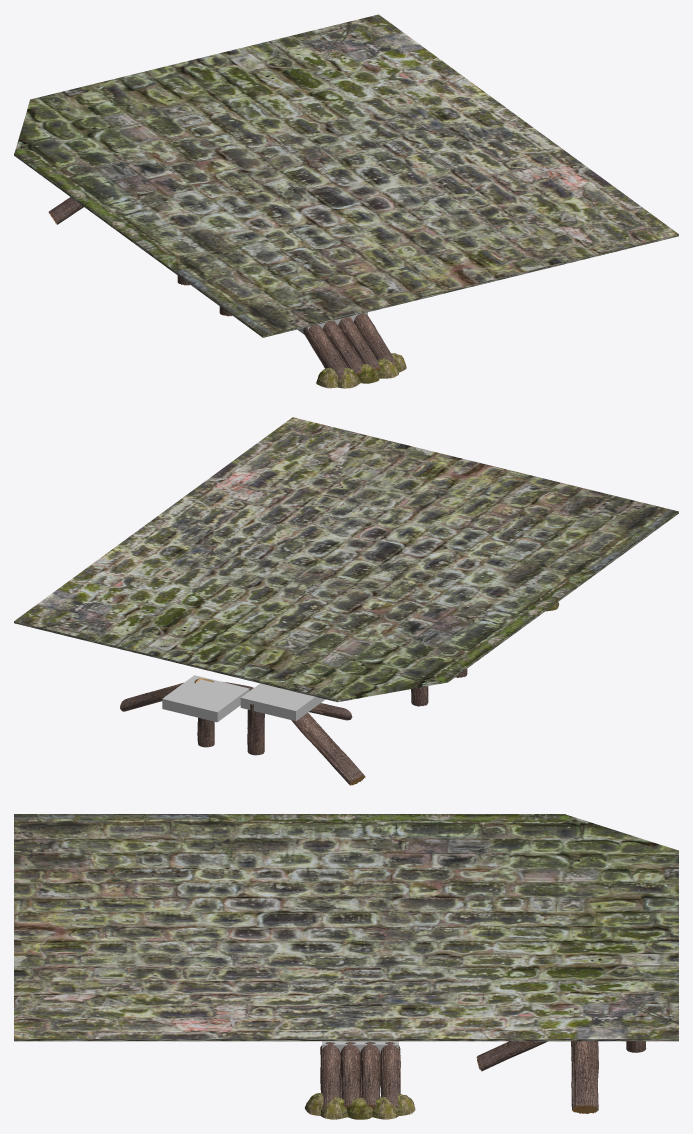
File: WoodenObstacles.fbx
3 renders of one model, top to bottom at view 1: azimuth 30°, elevation 25°; view 2: azimuth 150°, elevation 25°; view 3: azimuth 270°, elevation 25°, orthographic. The views are drawn at different scales.
Visible parts, largest first — view 1: Wall.006, Cylinder.002, Cylinder.012, Cylinder.001, Cylinder.003; view 2: Wall.006, Cube.005, Cube.001, Cylinder.016, Cylinder.018, Cylinder.014; view 3: Wall.006, Cylinder.014, Cylinder.004, Cylinder.007, Cylinder.005, Cylinder.006, Cylinder.013, Sphere.007, Sphere.008.
Boxes of the visible parts, x1,y1,x2,y2 form: Wall.006: [14, 14, 678, 337]; Cylinder.002: [303, 324, 345, 379]; Cylinder.012: [338, 317, 380, 370]; Cylinder.001: [322, 321, 362, 374]; Cylinder.003: [354, 313, 397, 365]; Wall.006: [14, 417, 678, 702]; Cube.005: [162, 675, 249, 722]; Cube.001: [240, 683, 325, 720]; Cylinder.016: [291, 712, 365, 785]; Cylinder.018: [247, 704, 264, 755]; Cylinder.014: [120, 677, 202, 711]; Wall.006: [14, 814, 678, 1041]; Cylinder.014: [571, 1041, 598, 1113]; Cylinder.004: [360, 1042, 380, 1107]; Cylinder.007: [340, 1042, 360, 1107]; Cylinder.005: [380, 1042, 400, 1108]; Cylinder.006: [320, 1042, 340, 1107]; Cylinder.013: [476, 1041, 547, 1071]; Sphere.007: [320, 1097, 347, 1119]; Sphere.008: [372, 1097, 398, 1119].
Size of the model in its own units: 40 by 9.91 by 50.
